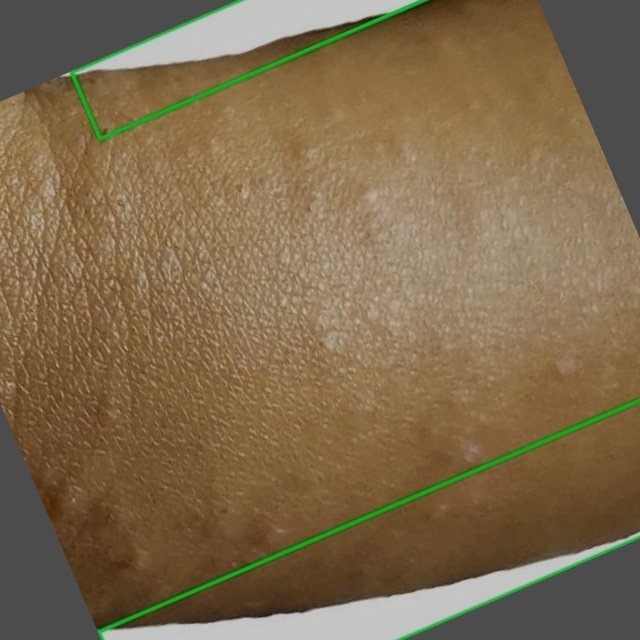Contact Dermatitis: (98, 400, 639, 639)
